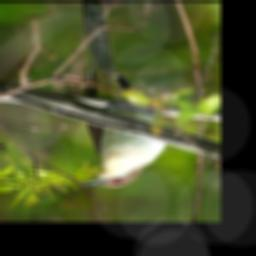Cuckoo: (75, 3, 170, 190)
